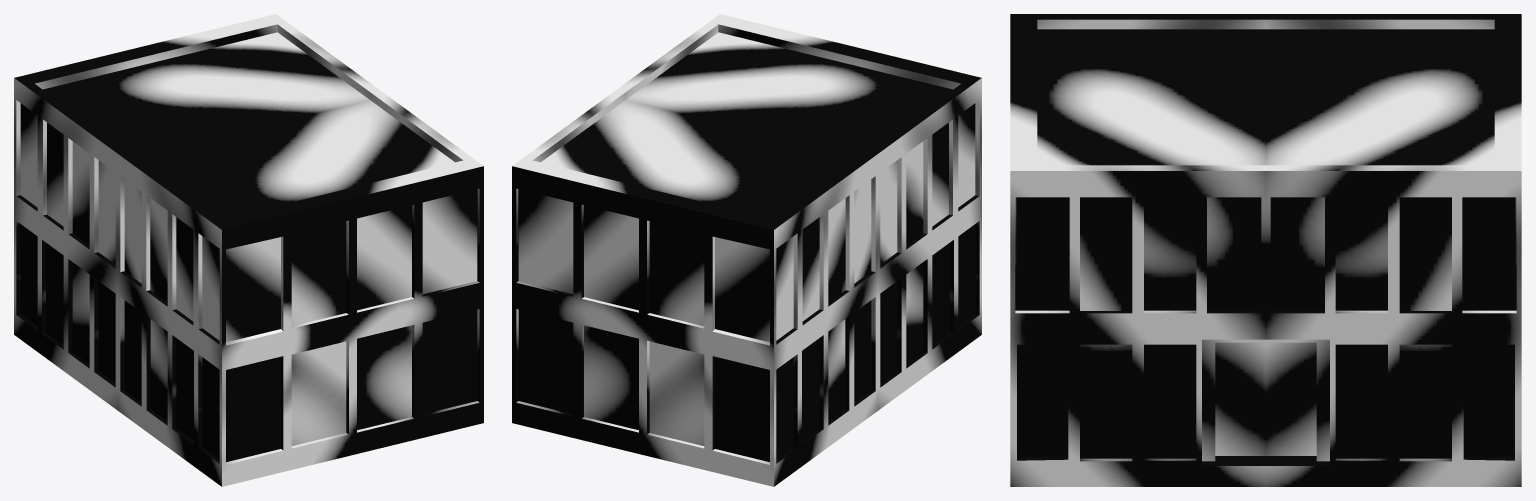
The model's file is building.obj.
The picture shows the model from 3 angles, left to right: view 1: azimuth 30°, elevation 25°; view 2: azimuth 150°, elevation 25°; view 3: azimuth 270°, elevation 25°; orthographic projection. The views are drawn at different scales.
Visible parts, largest first — view 1: Cube; view 2: Cube; view 3: Cube.
Part boxes in pixels (bbox=[...]): Cube: bbox=[14, 14, 483, 486]; Cube: bbox=[512, 14, 981, 486]; Cube: bbox=[1010, 14, 1521, 486].
Size of the model in its own units: 16 by 15 by 22.
